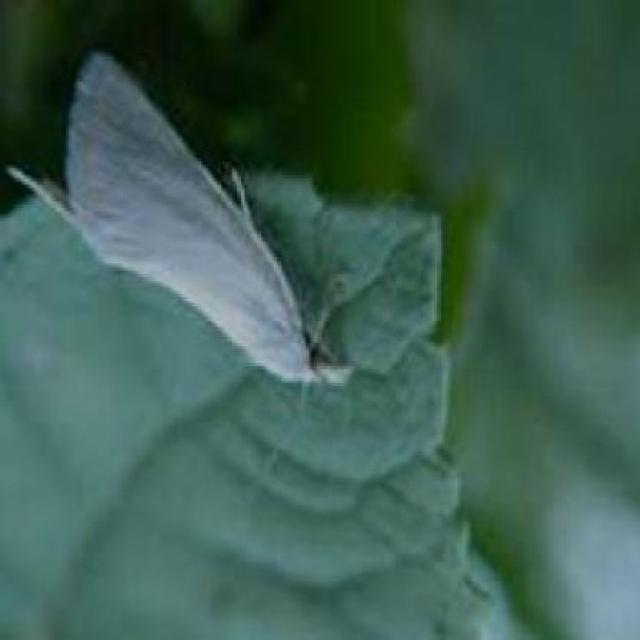stem-borer: (0, 41, 355, 395)
